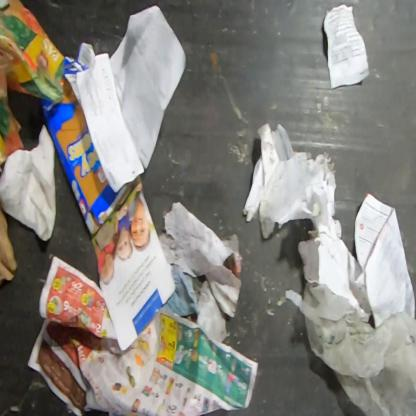cardboard: (41, 55, 142, 252), (0, 0, 65, 168), (0, 207, 19, 288)
soft_plastic: (298, 281, 415, 415)
